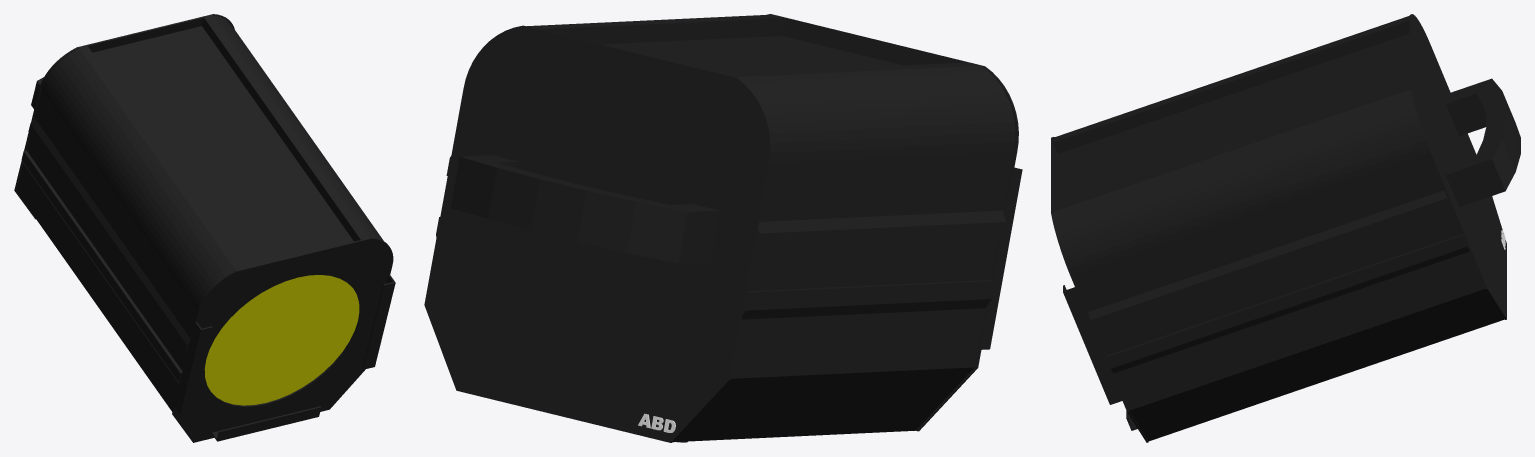
The model's file is stageLight.FBX.
The picture shows the model from 3 angles, left to right: view 1: azimuth 30°, elevation 25°; view 2: azimuth 150°, elevation 25°; view 3: azimuth 270°, elevation 25°; orthographic projection. The views are drawn at different scales.
Parts seen in each view (by area): view 1: Group_001; view 2: Group_001; view 3: Group_001.
Boxes of the visible parts, x1,y1,x2,y2 form: Group_001: (14, 14, 395, 442); Group_001: (424, 14, 1022, 442); Group_001: (1051, 14, 1520, 442).
Size of the model in its own units: 5.35 by 8.04 by 9.7.
